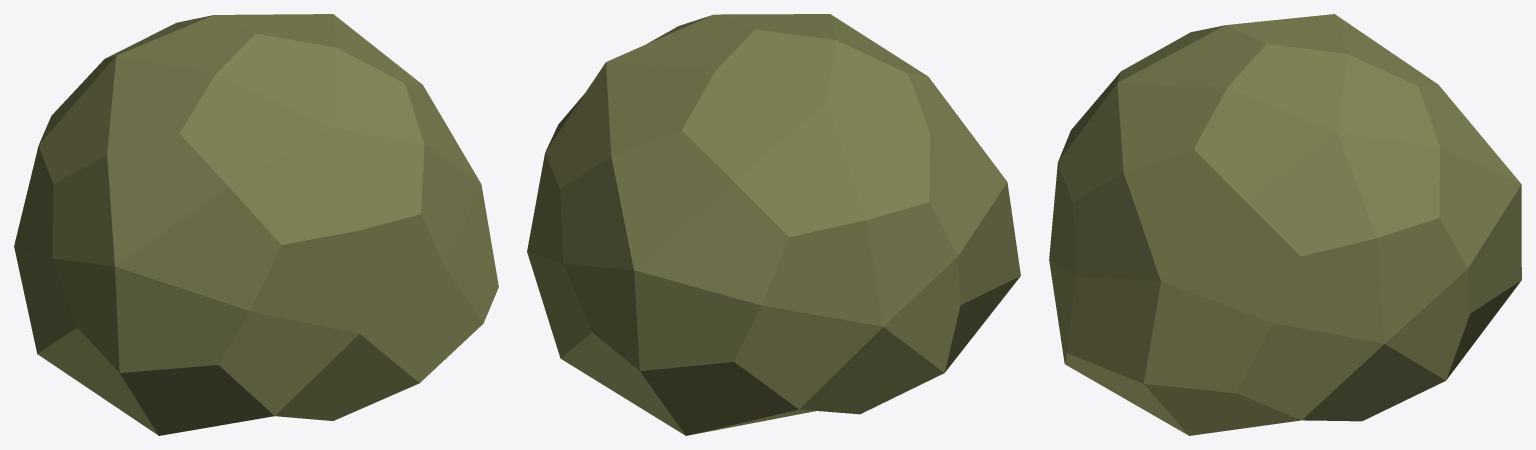
The model's file is bush_3_v1.fbx.
3 views of the same model, side by side, from view 1: azimuth 30°, elevation 25°; view 2: azimuth 150°, elevation 25°; view 3: azimuth 270°, elevation 25° (orthographic).
Parts seen in each view (by area): view 1: bush_3; view 2: bush_3; view 3: bush_3.
Part boxes in pixels (x1,y1,x2,y2): bush_3: [14, 14, 498, 435]; bush_3: [527, 14, 1020, 435]; bush_3: [1049, 14, 1521, 435].
Size of the model in its own units: 1.6 by 1.26 by 1.59.
